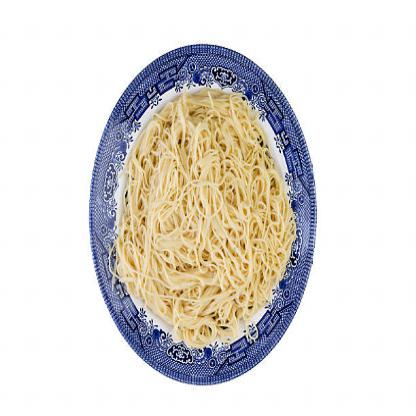Noodles: (108, 84, 298, 348)
